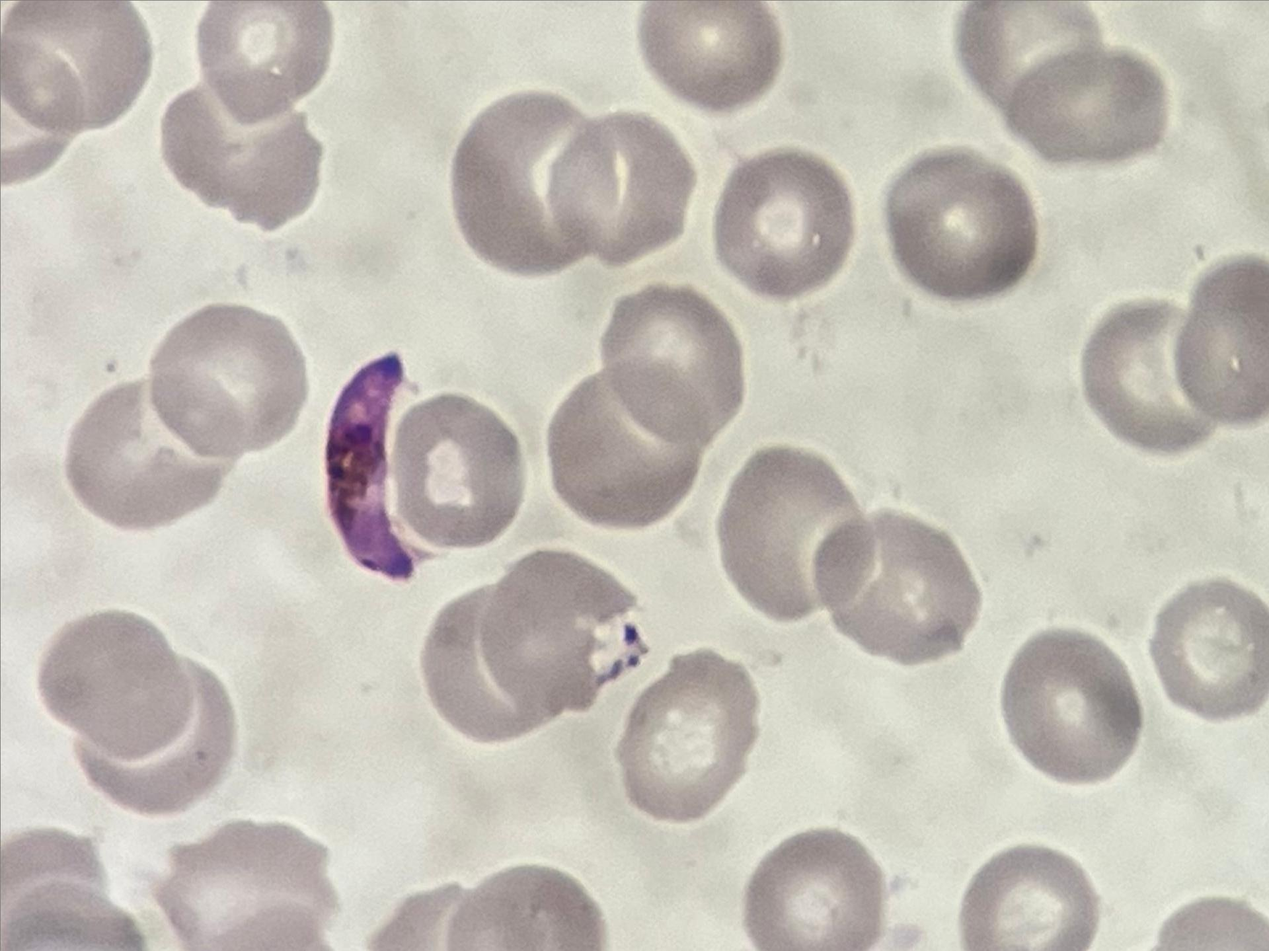Infected: (474, 544, 655, 711), (322, 351, 451, 584)
Uninfected: (453, 93, 613, 279), (717, 443, 881, 622), (64, 370, 240, 528), (547, 359, 709, 528), (66, 656, 236, 814), (616, 643, 762, 826), (160, 76, 323, 235), (813, 514, 983, 666), (420, 582, 578, 745), (36, 608, 199, 763), (149, 303, 307, 461), (159, 817, 342, 951), (600, 286, 748, 448), (889, 142, 1040, 300), (1001, 627, 1147, 782), (388, 390, 528, 551), (715, 147, 859, 302), (550, 111, 695, 264), (1081, 294, 1217, 453), (0, 0, 151, 131), (1005, 50, 1173, 165), (195, 0, 330, 128), (747, 825, 884, 951), (960, 0, 1100, 123), (1149, 583, 1269, 723), (633, 0, 782, 111), (1175, 256, 1269, 424), (957, 845, 1095, 951), (449, 864, 601, 951)
